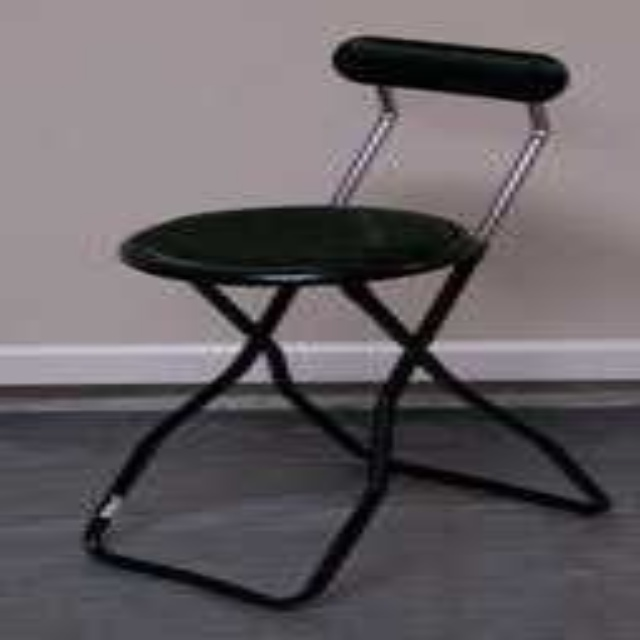obstacle: (86, 37, 605, 605)
